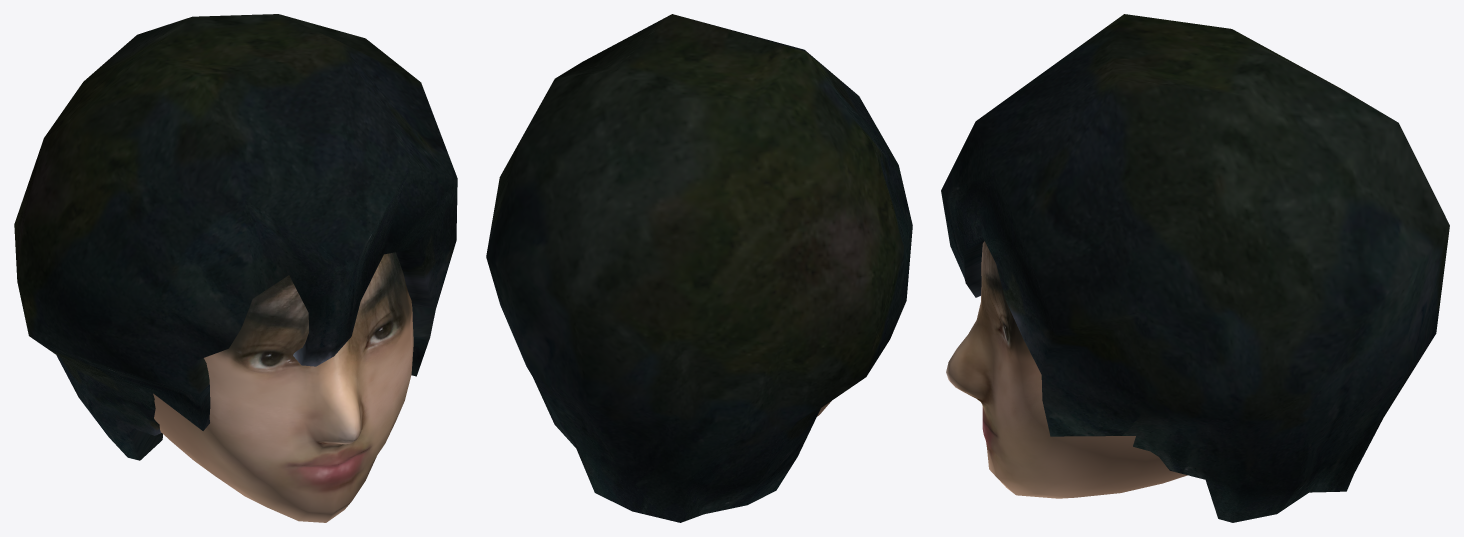
Rendered from head.glb.
3 views of the same model, side by side, from view 1: azimuth 30°, elevation 25°; view 2: azimuth 150°, elevation 25°; view 3: azimuth 270°, elevation 25° (orthographic). The views are drawn at different scales.
Visible parts, largest first — view 1: Hair, Face; view 2: Hair; view 3: Hair, Face.
Part boxes in pixels (box(x1,y1,x2,y2)): Hair: box(14, 14, 457, 460); Face: box(153, 252, 413, 522); Hair: box(486, 14, 912, 522); Hair: box(941, 14, 1449, 522); Face: box(946, 241, 1187, 498).
Bounding box in the file's own units: 1.56 × 1.65 × 1.71.
1 material, 1 textured.
